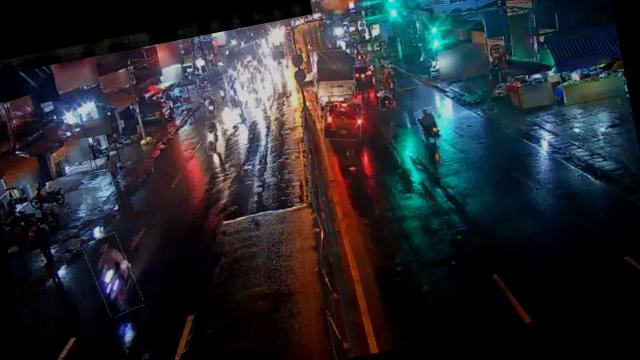Bike: (84, 231, 143, 319), (415, 107, 442, 144), (204, 120, 222, 154), (231, 94, 247, 124), (376, 86, 394, 110), (380, 68, 398, 90), (247, 85, 263, 107), (206, 95, 218, 116), (216, 84, 226, 100)
Car: (319, 94, 367, 144), (352, 63, 373, 84)
Truck: (306, 44, 362, 108)
